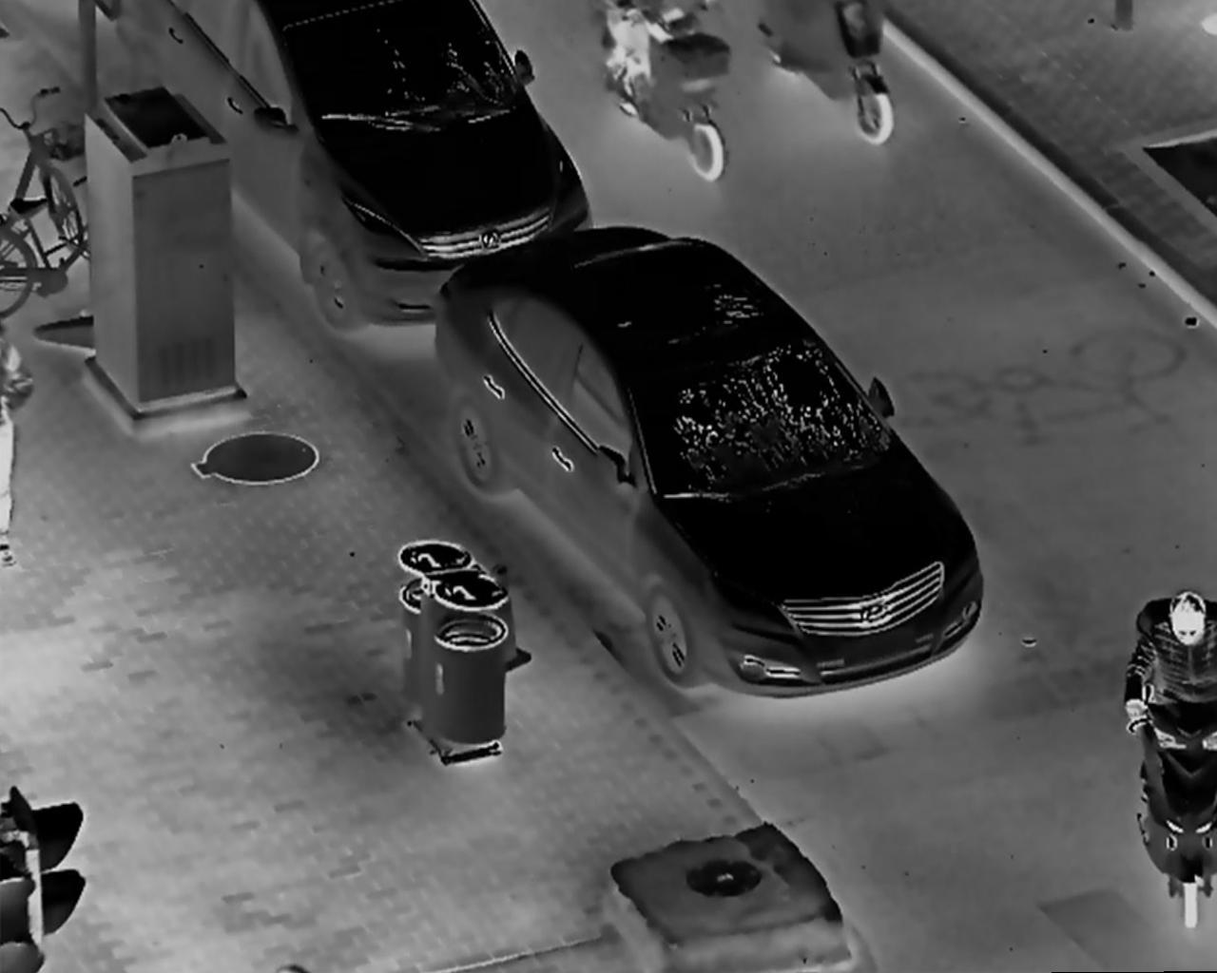person: (1123, 585, 1217, 851)
